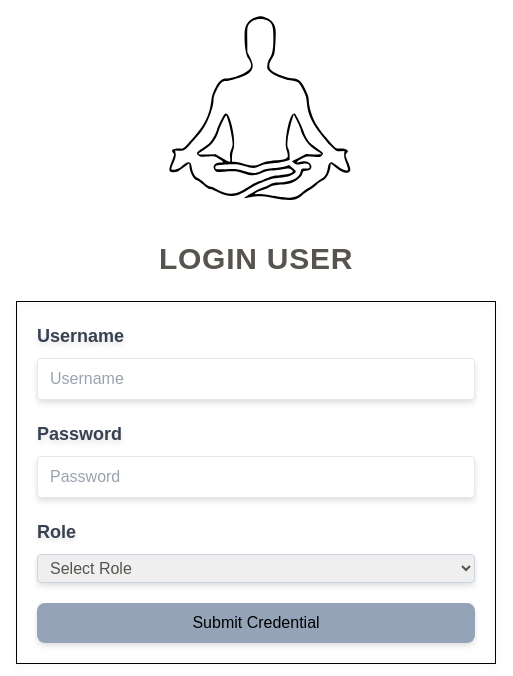
Test case: login-page › direct submit on render › shows empty validation errors when fields are empty and form is submitted
This screenshot has width=513, height=676.
Click the button "Submit Credential" at point(256, 623), box [37,603,475,643]
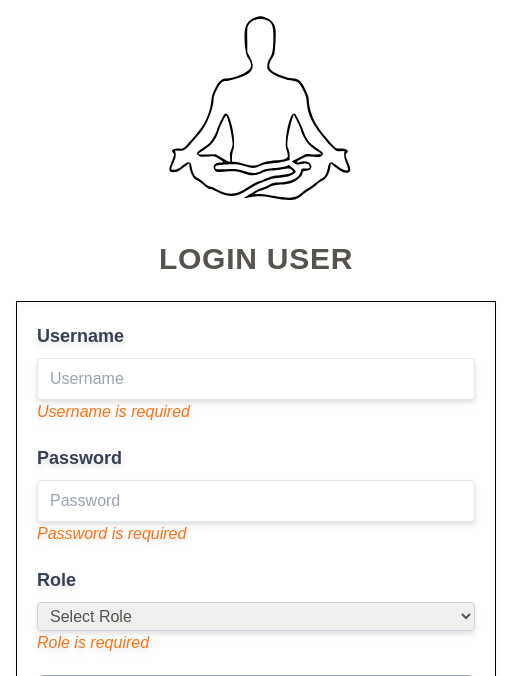
Now the text "Username is required" is shown, box [37,403,190,420]
Now the text "Password is required" is shown, box [37,525,186,542]
Now the text "Role is required" is shown, box [37,634,149,651]
